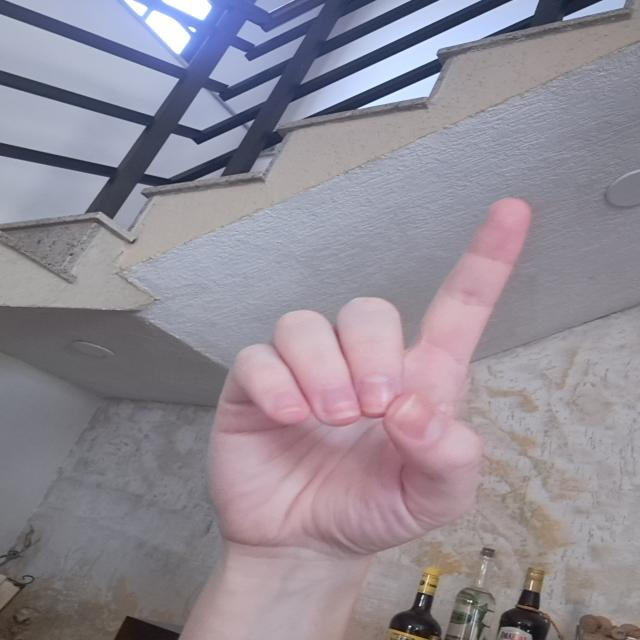D2: (225, 178, 544, 584)
